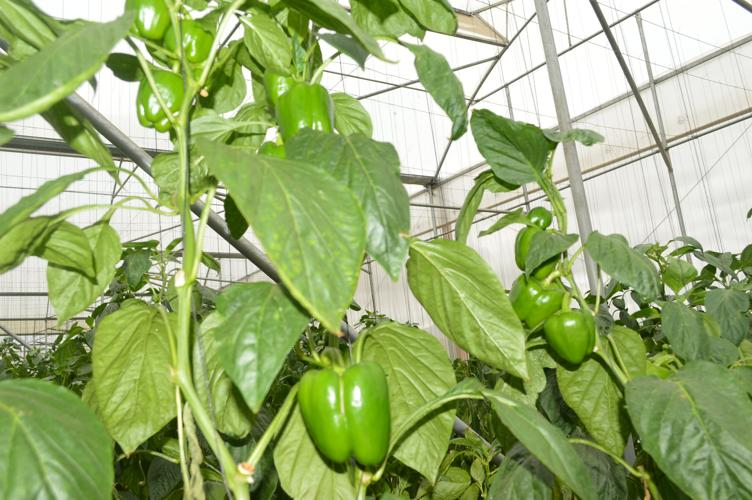BellPepper: (298, 357, 398, 471), (278, 78, 346, 174), (540, 296, 604, 366), (500, 265, 567, 326), (132, 67, 190, 136), (510, 212, 566, 282), (169, 23, 214, 60), (128, 1, 168, 41)
